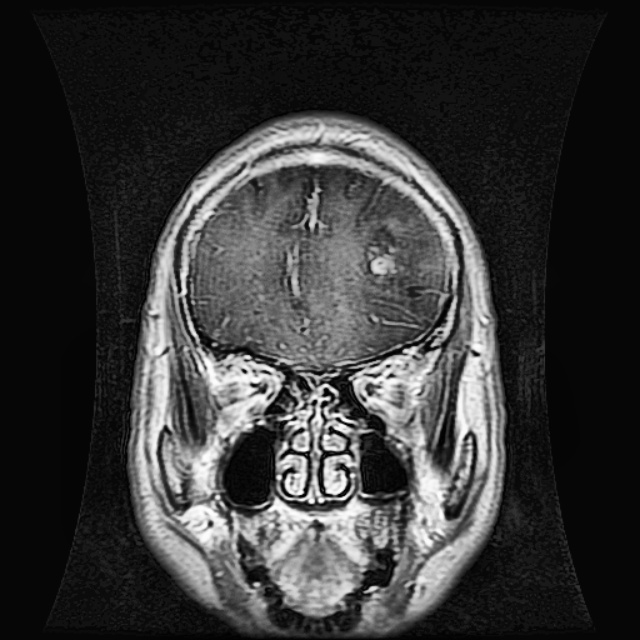Glioma: (365, 225, 405, 279)
